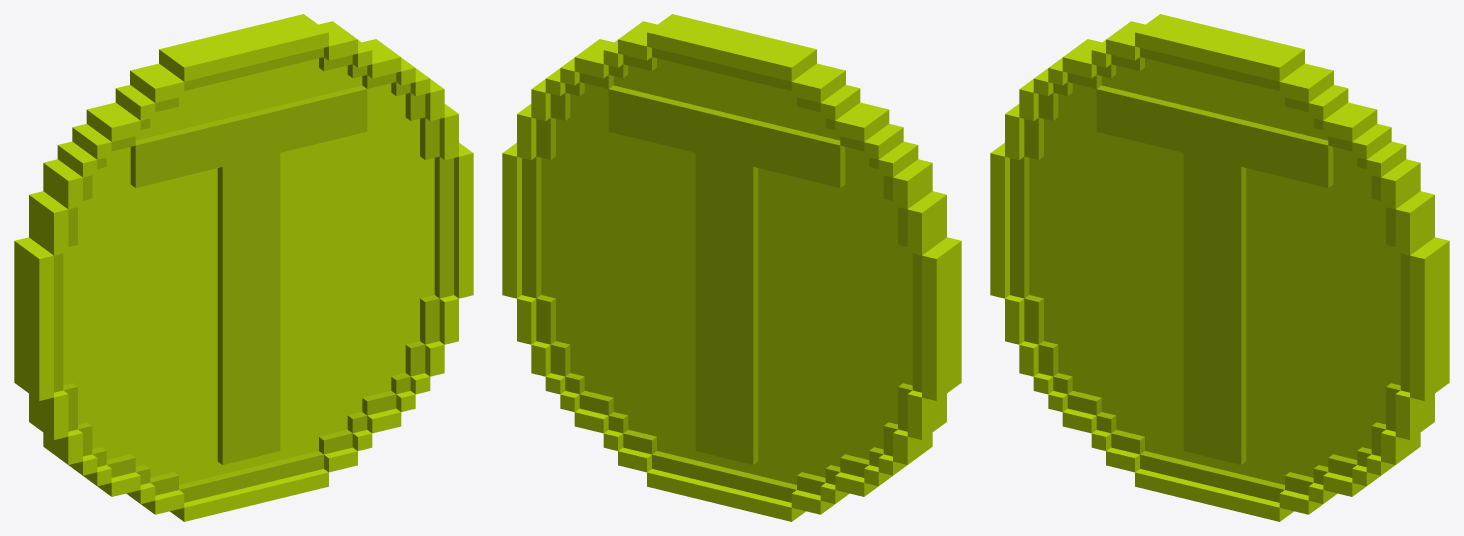
Rendered from Voxel_Coin_T.fbx.
3 renders of one model, left to right at view 1: azimuth 30°, elevation 25°; view 2: azimuth 150°, elevation 25°; view 3: azimuth 330°, elevation 25°, orthographic.
Visible parts, largest first — view 1: Coin T.001; view 2: Coin T.001; view 3: Coin T.001.
Part boxes in pixels (x1,y1,x2,y2): Coin T.001: (14,14,473,521); Coin T.001: (502,14,961,521); Coin T.001: (990,14,1449,521).
Bounding box in the file's own units: 60.96 × 60.96 × 6.1.
